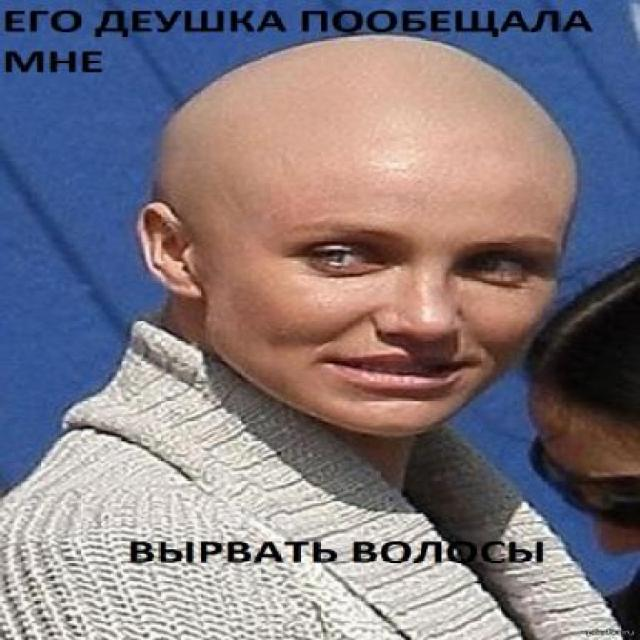no_helmet: (86, 27, 623, 282)
